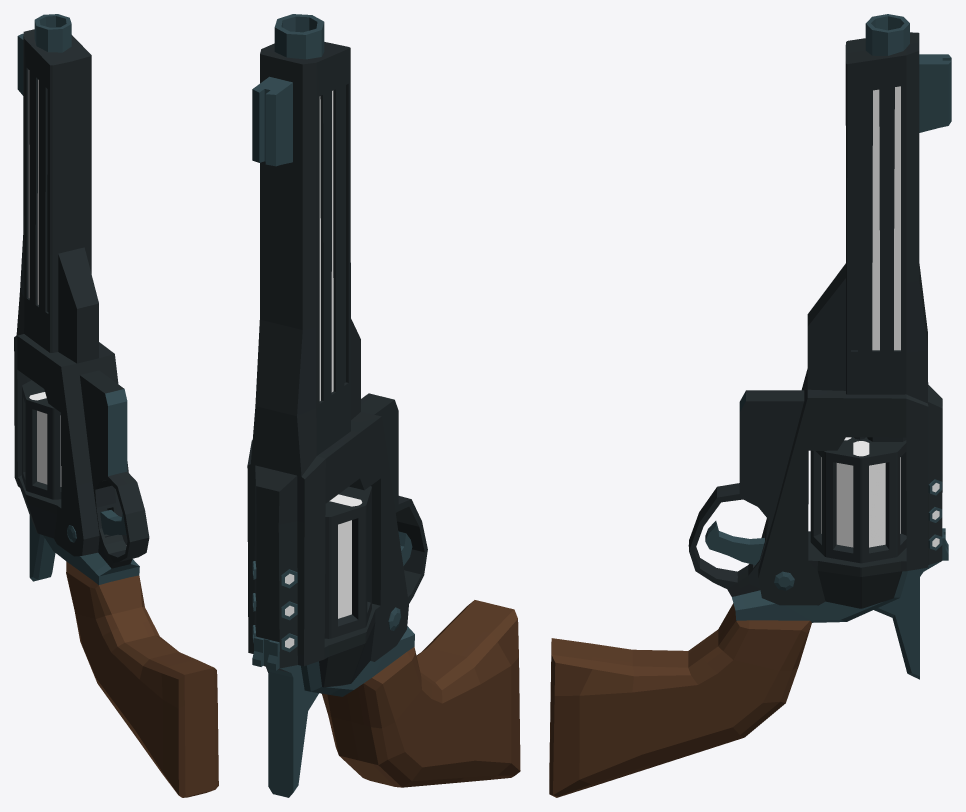
The model's file is Player_Revolver_V01.fbx.
3 renders of one model, left to right at view 1: azimuth 30°, elevation 25°; view 2: azimuth 150°, elevation 25°; view 3: azimuth 270°, elevation 25°, orthographic. The views are drawn at different scales.
Visible parts, largest first — view 1: Player_Revolver_V01, Cylinder, Rev_trigger; view 2: Player_Revolver_V01, Cylinder; view 3: Player_Revolver_V01, Cylinder, Rev_trigger.
Boxes of the visible parts, x1,y1,x2,y2 form: Player_Revolver_V01: [14, 14, 218, 797]; Cylinder: [22, 380, 61, 499]; Rev_trigger: [100, 510, 126, 535]; Player_Revolver_V01: [247, 14, 520, 797]; Cylinder: [324, 486, 371, 638]; Player_Revolver_V01: [549, 14, 951, 797]; Cylinder: [810, 437, 906, 563]; Rev_trigger: [705, 521, 764, 565].
Size of the model in its own units: 19.25 by 160 by 75.99.
